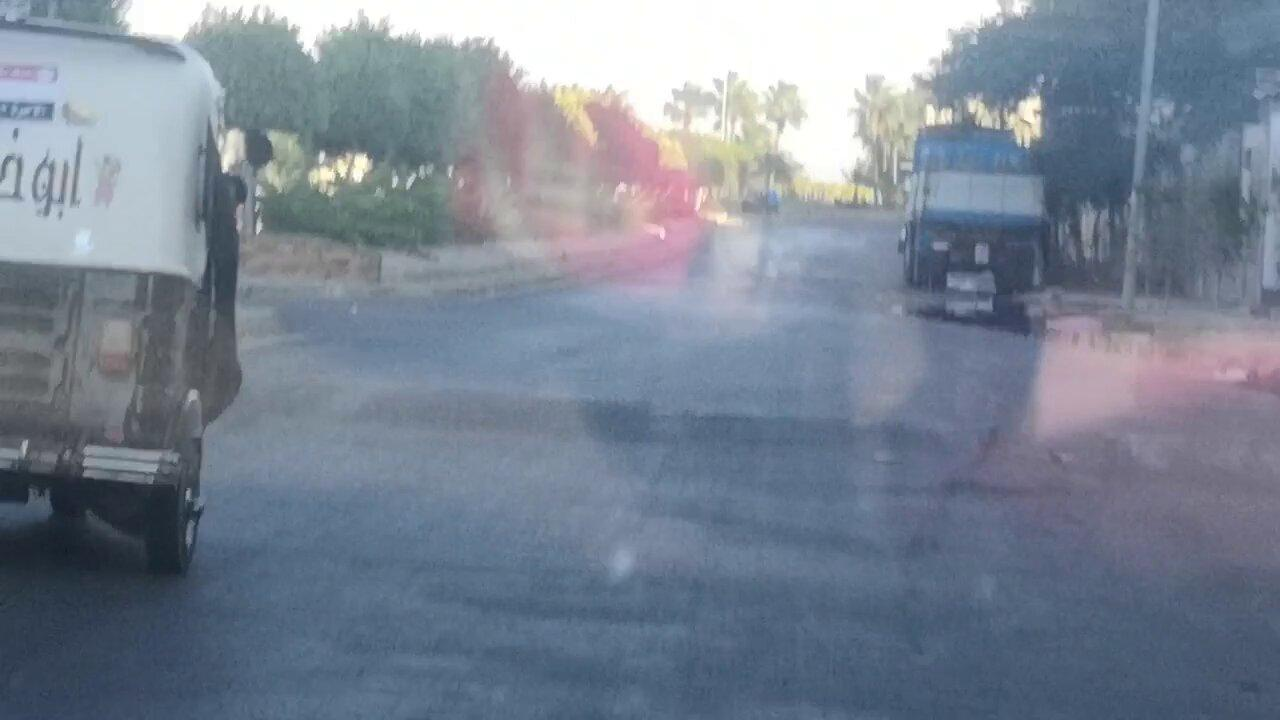Bump: (253, 370, 1280, 505)
